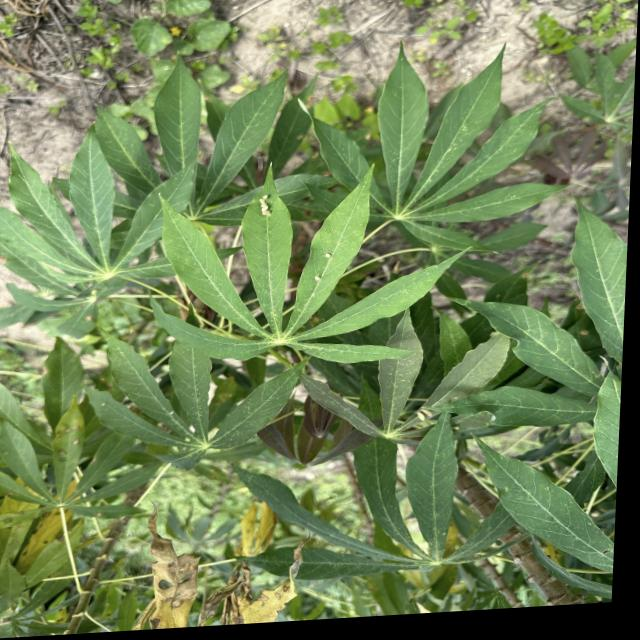Mosaico: (123, 505, 302, 623), (225, 493, 285, 572)
Mosca: (256, 187, 278, 218), (175, 428, 196, 446), (71, 432, 89, 449), (320, 248, 338, 262), (309, 271, 323, 286), (96, 394, 111, 408)
